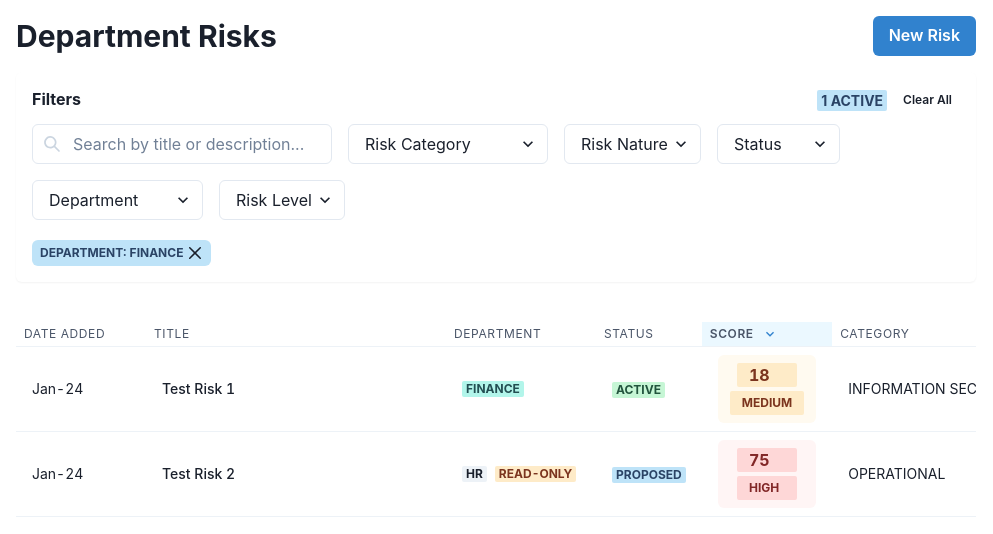
Test: DepartmentRiskTable › Filtering › should clear all filters when clear filters is clicked
Check: the text "Test Risk 1" is shown, box [162,380,235,397]
# Apply a filter first
Click the field with placeholder "Search by title or description...".
click(182, 144)  # box [32,124,332,164]
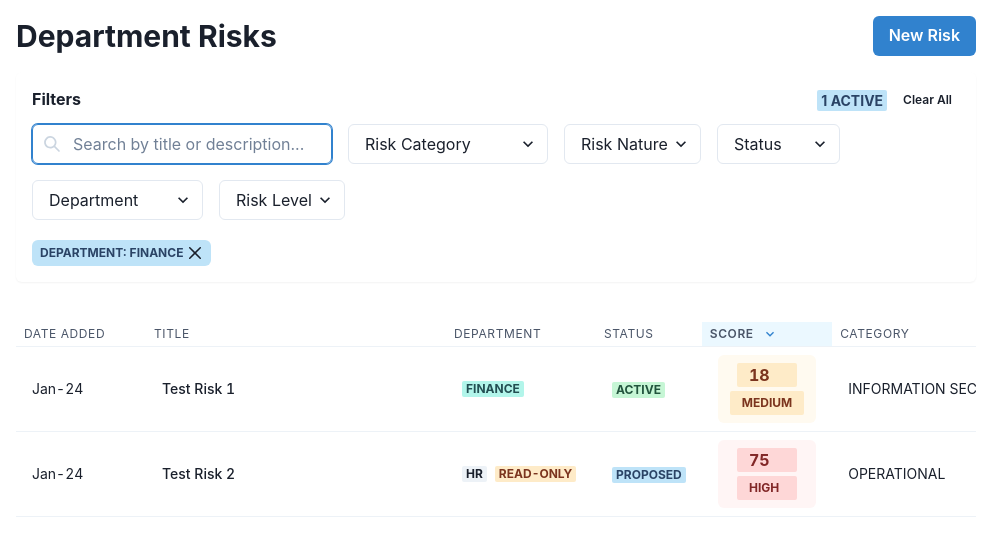
Type keys "{Control>}a{/Control}"
Type "Risk" into the field with placeholder "Search by title or description...".
click(182, 144); type("Risk")  # box [32,124,332,164]
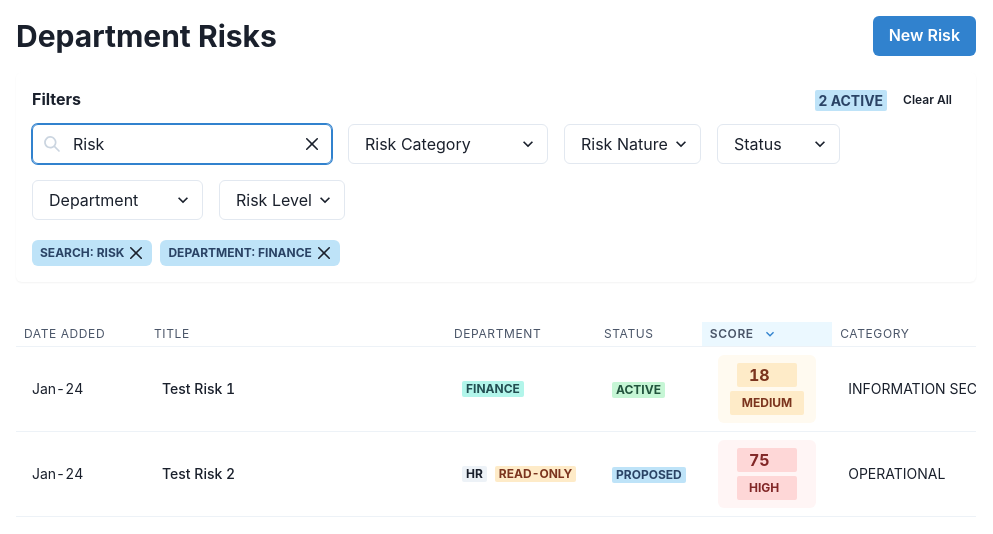
# Click the clear button
Click the button "Clear All".
click(928, 100)  # box [895,88,960,112]
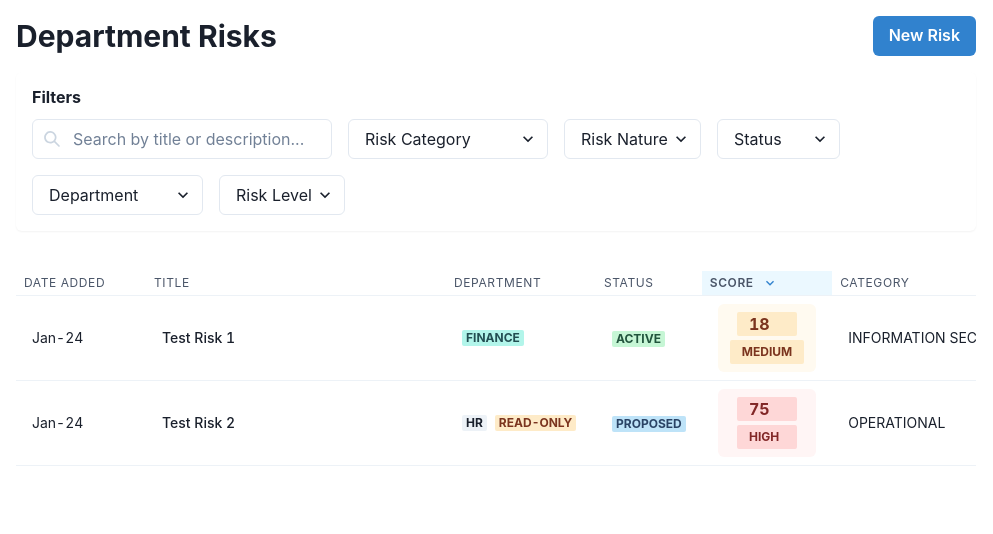
Check: the field with placeholder "Search by title or description..." is empty, box [32,119,332,159]
